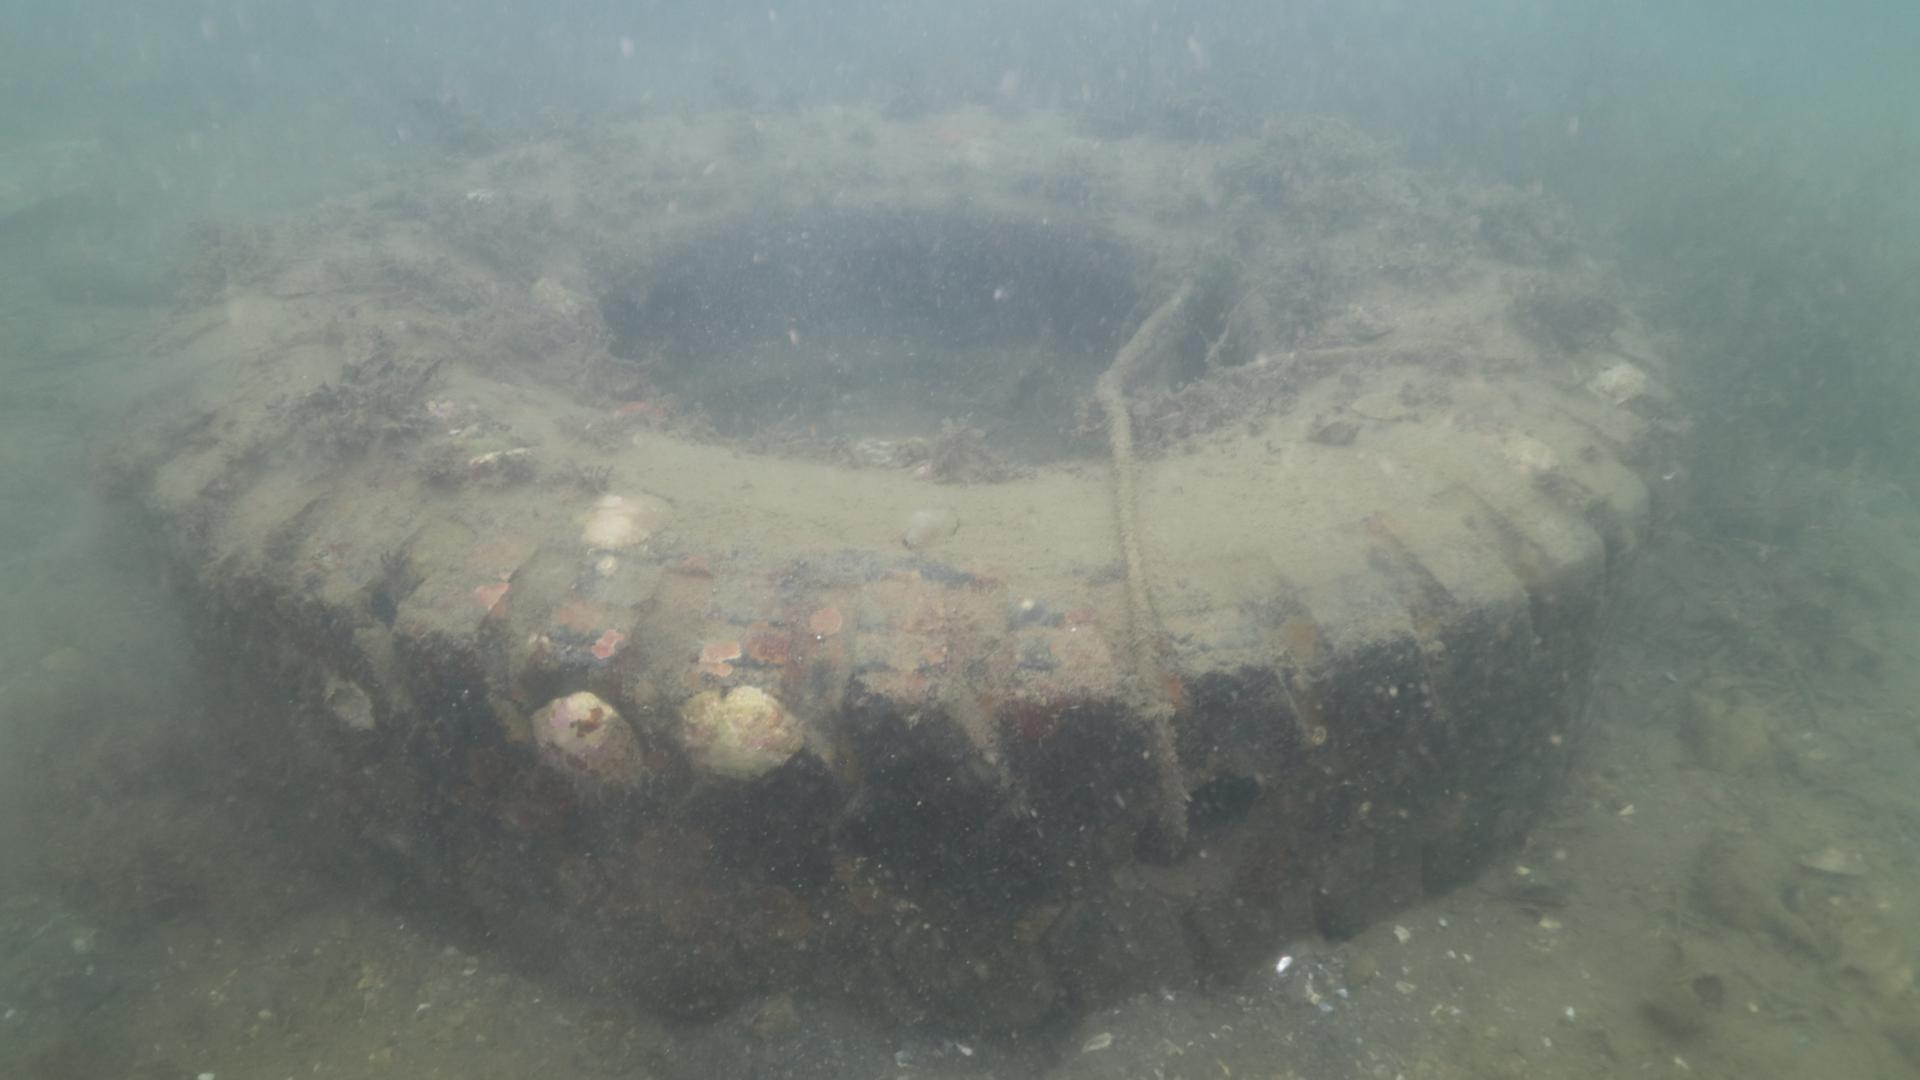rope: (1065, 243, 1226, 913)
tire: (137, 82, 1673, 986)
